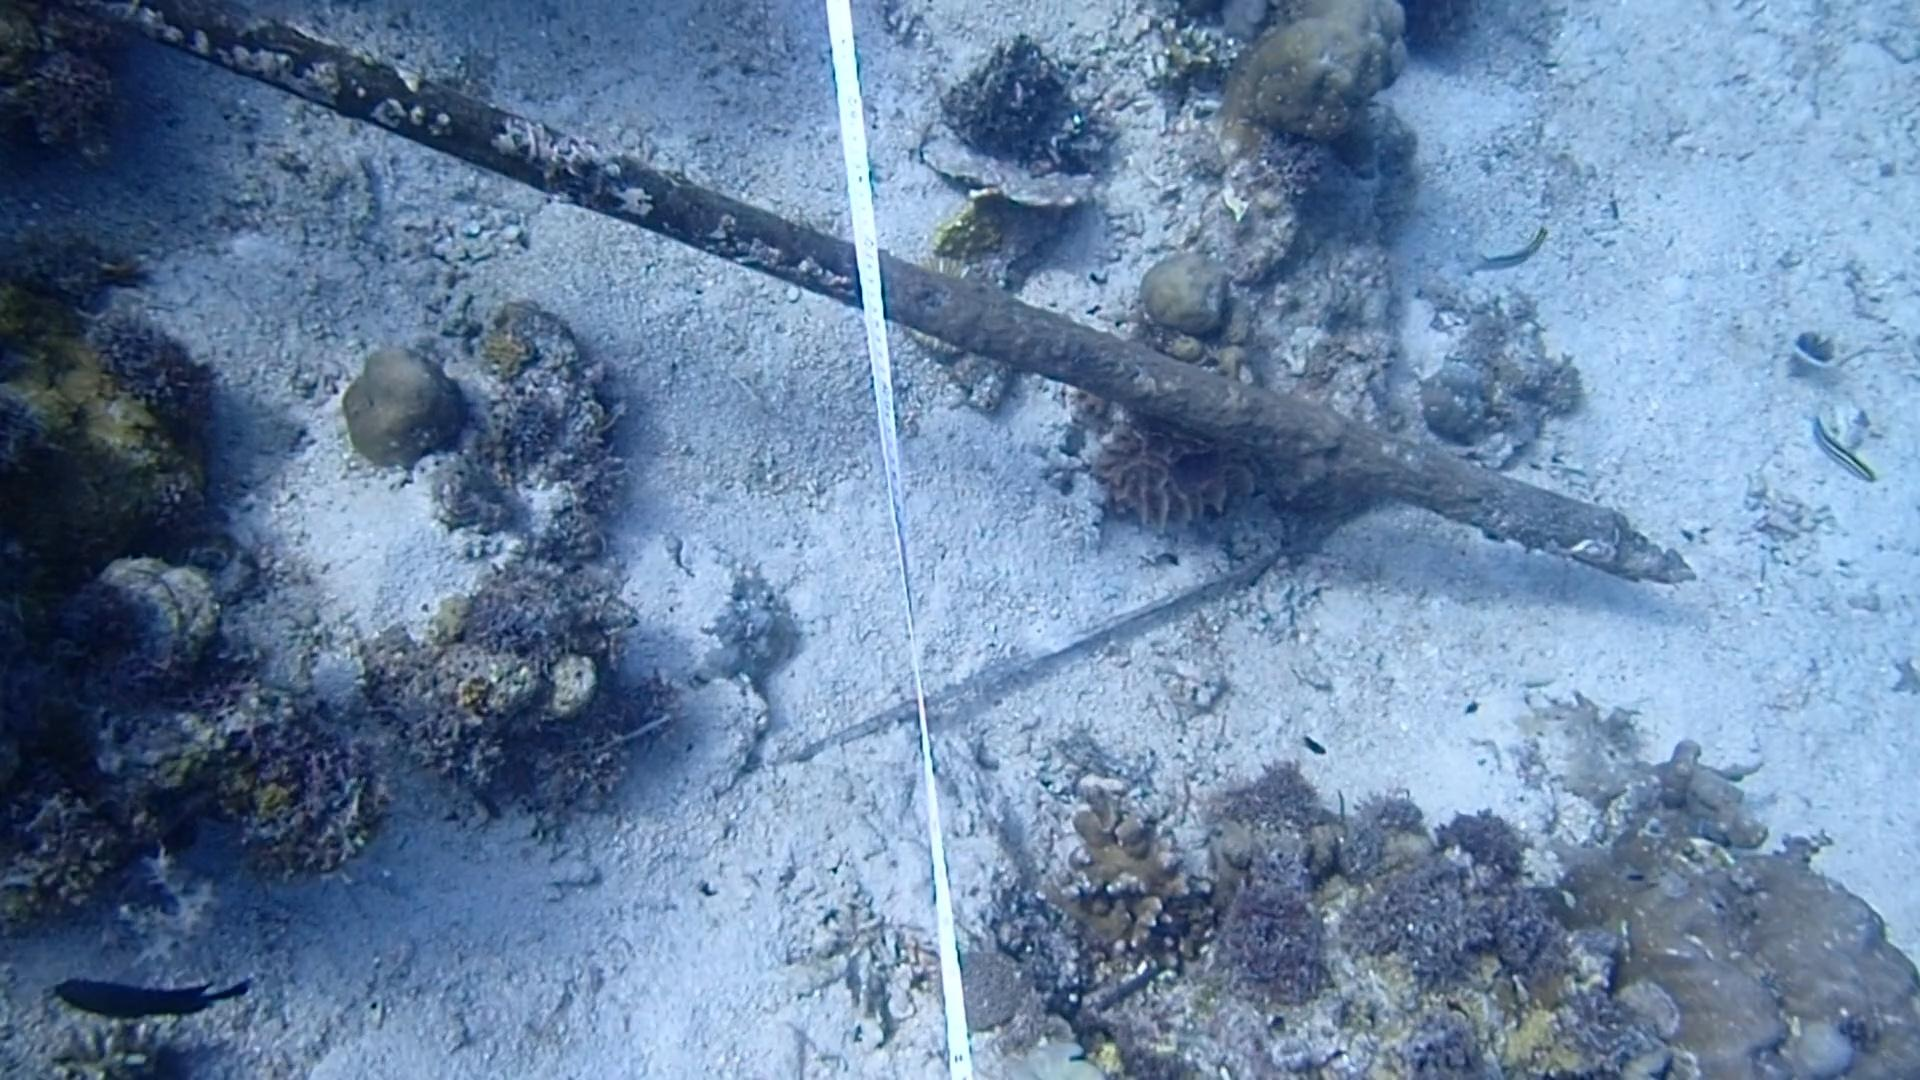Dark Fish: (50, 961, 253, 1034)
Striped Fish: (1791, 400, 1891, 500), (1449, 216, 1565, 289)
